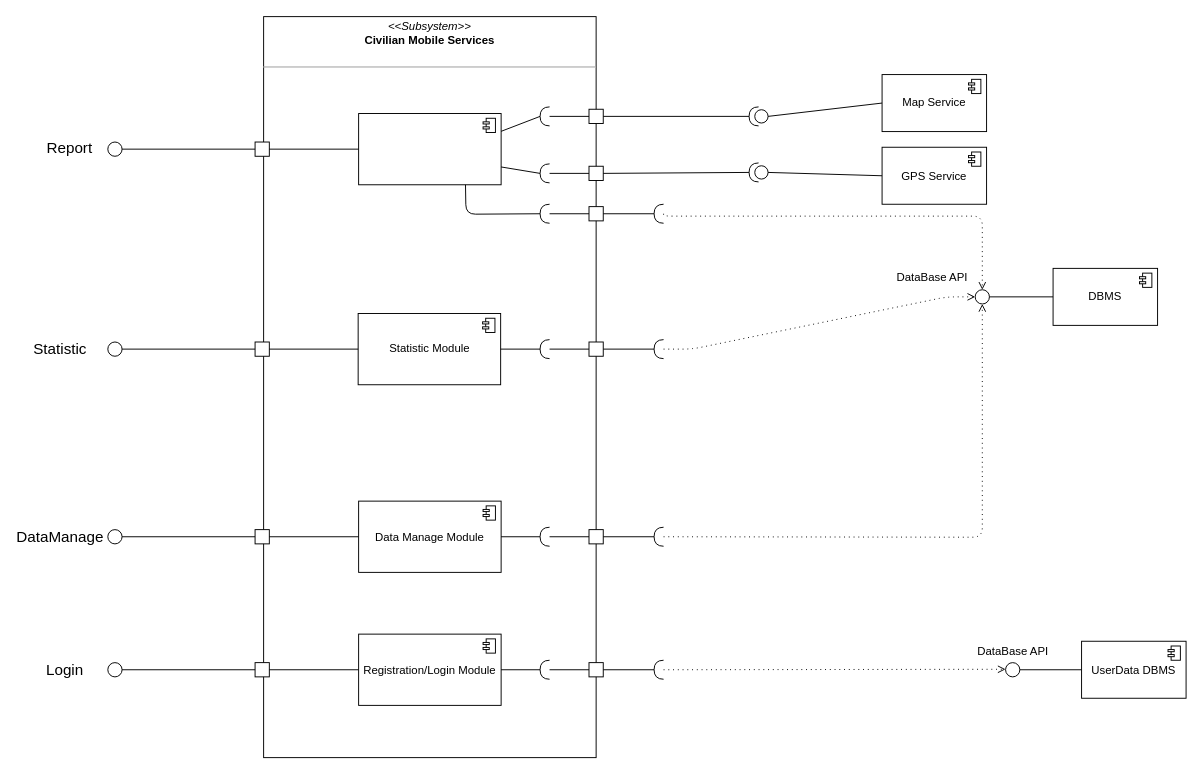
This 1203x774 diagram has some shape labels left out. Here are the shapes that lost their labels. From the top down, the centre of each, then its label:
At [758,116]: "Map API".
At [429,149]: "Report Module".
At [758,172]: "GPS API".
